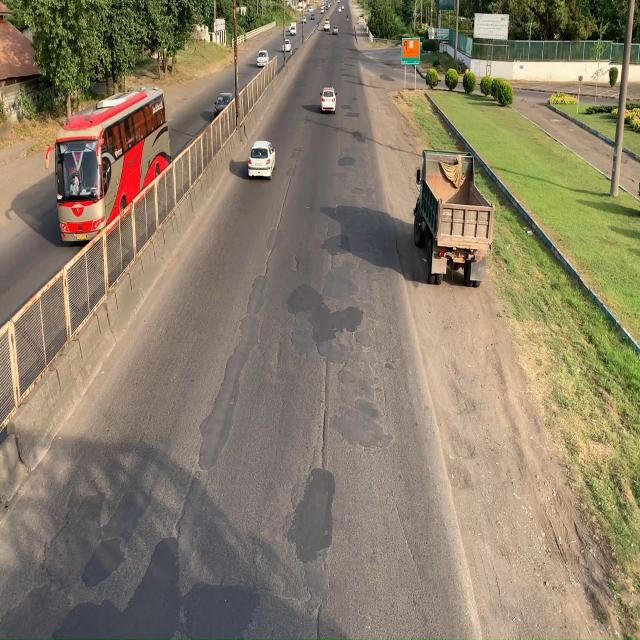Bus: (57, 91, 165, 243)
Truck: (414, 152, 498, 292)
cars: (248, 141, 274, 179)
